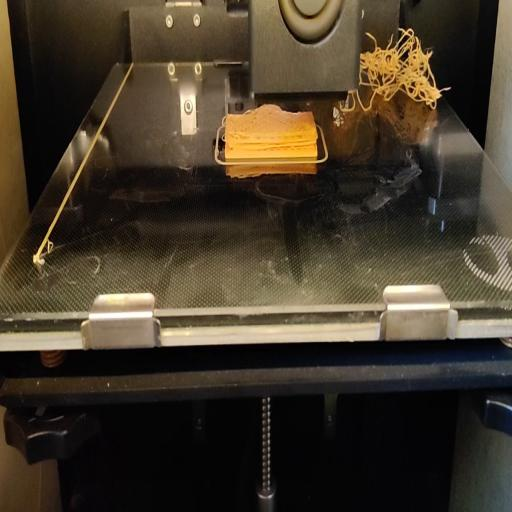spaghetti: (360, 26, 449, 125)
